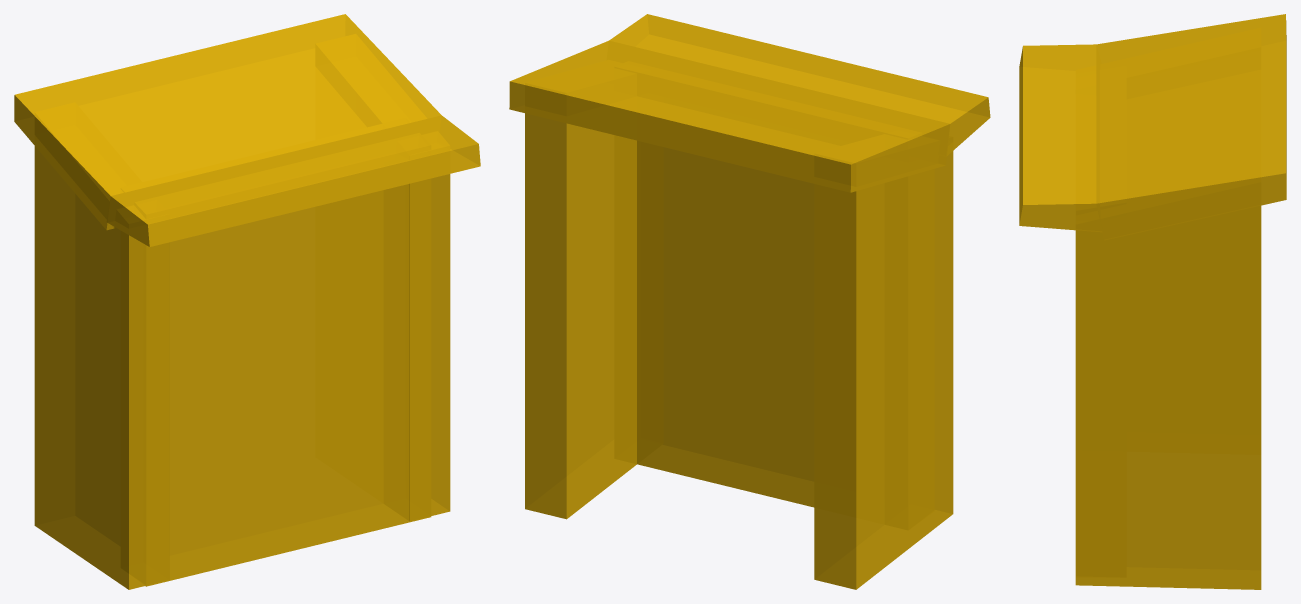
Rendered from SM_Bld_Shed_01_Collision.fbx.
The picture shows the model from 3 angles, left to right: view 1: azimuth 30°, elevation 25°; view 2: azimuth 150°, elevation 25°; view 3: azimuth 270°, elevation 25°; orthographic projection. The views are drawn at different scales.
Visible parts, largest first — view 1: SM_Bld_Shed_01_Collision; view 2: SM_Bld_Shed_01_Collision; view 3: SM_Bld_Shed_01_Collision.
Boxes of the visible parts, x1,y1,x2,y2 form: SM_Bld_Shed_01_Collision: (14, 14, 480, 589); SM_Bld_Shed_01_Collision: (509, 14, 990, 589); SM_Bld_Shed_01_Collision: (1019, 14, 1286, 589).
Size of the model in its own units: 289 by 354 by 205.
